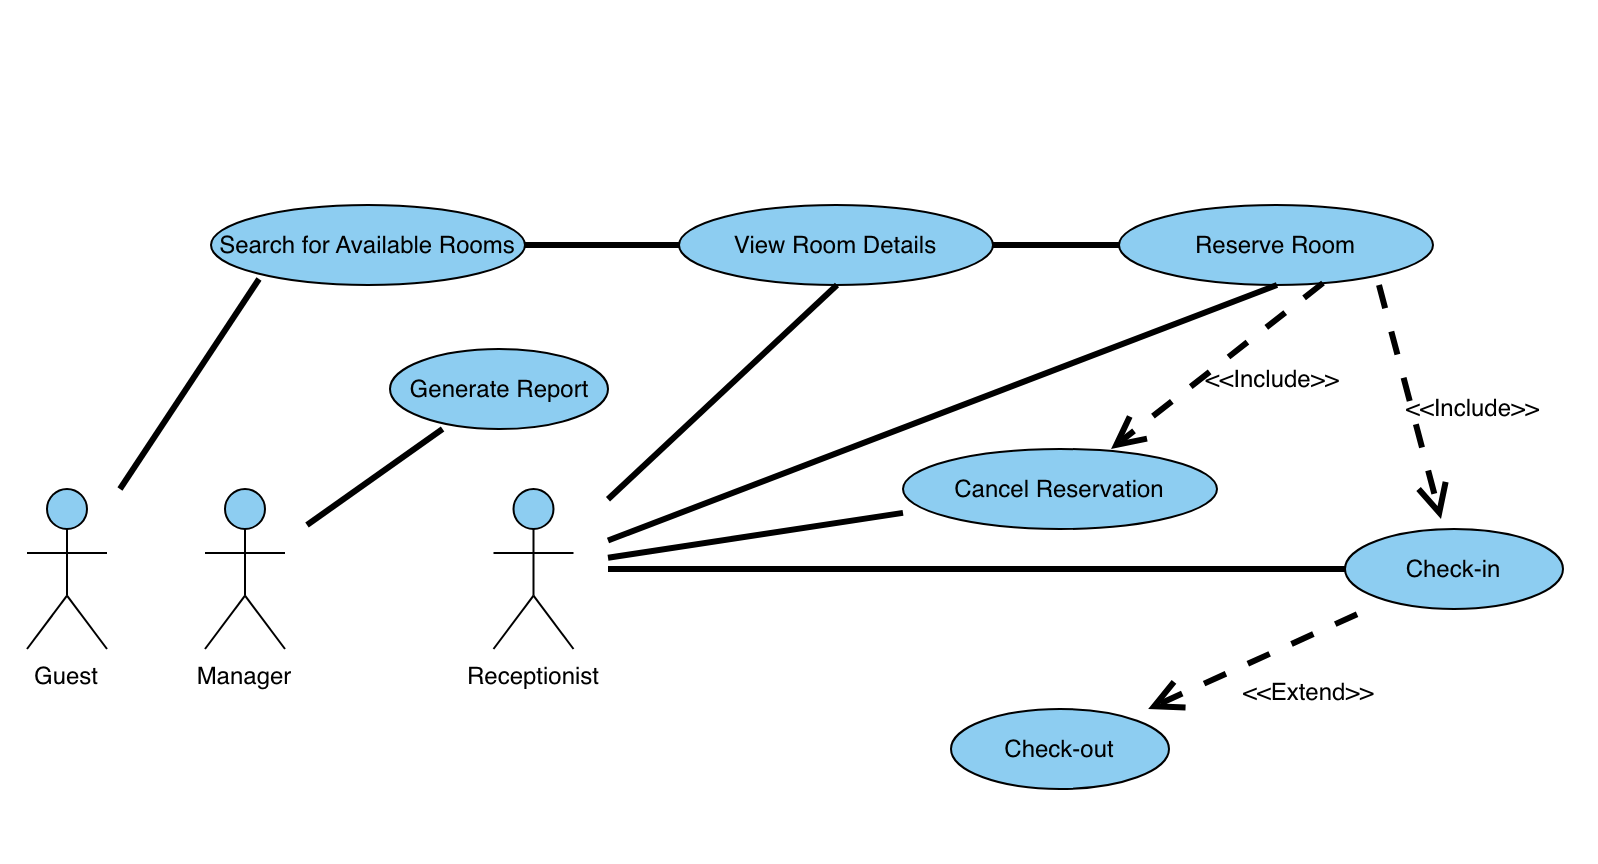actor: (481, 484, 582, 655), (195, 483, 292, 655), (24, 484, 119, 657)
association: (604, 284, 1278, 543), (601, 282, 838, 503), (1108, 280, 1328, 452), (120, 273, 263, 486), (607, 550, 1345, 589), (1148, 608, 1362, 715), (1374, 282, 1454, 524), (605, 505, 904, 561), (303, 425, 447, 532), (526, 226, 680, 266), (993, 227, 1120, 261)
text: (944, 470, 1178, 510), (725, 227, 952, 266), (1184, 221, 1386, 265), (1228, 674, 1388, 720), (221, 234, 515, 257), (460, 663, 619, 702), (405, 370, 588, 404), (1209, 365, 1352, 398), (994, 733, 1130, 766), (1399, 553, 1521, 589), (1403, 394, 1547, 423), (30, 657, 119, 696), (192, 661, 299, 692)
use_case: (676, 200, 996, 289), (1115, 201, 1438, 288), (899, 446, 1220, 531), (209, 201, 529, 286), (1343, 525, 1566, 613), (951, 705, 1171, 793), (388, 346, 610, 432)
